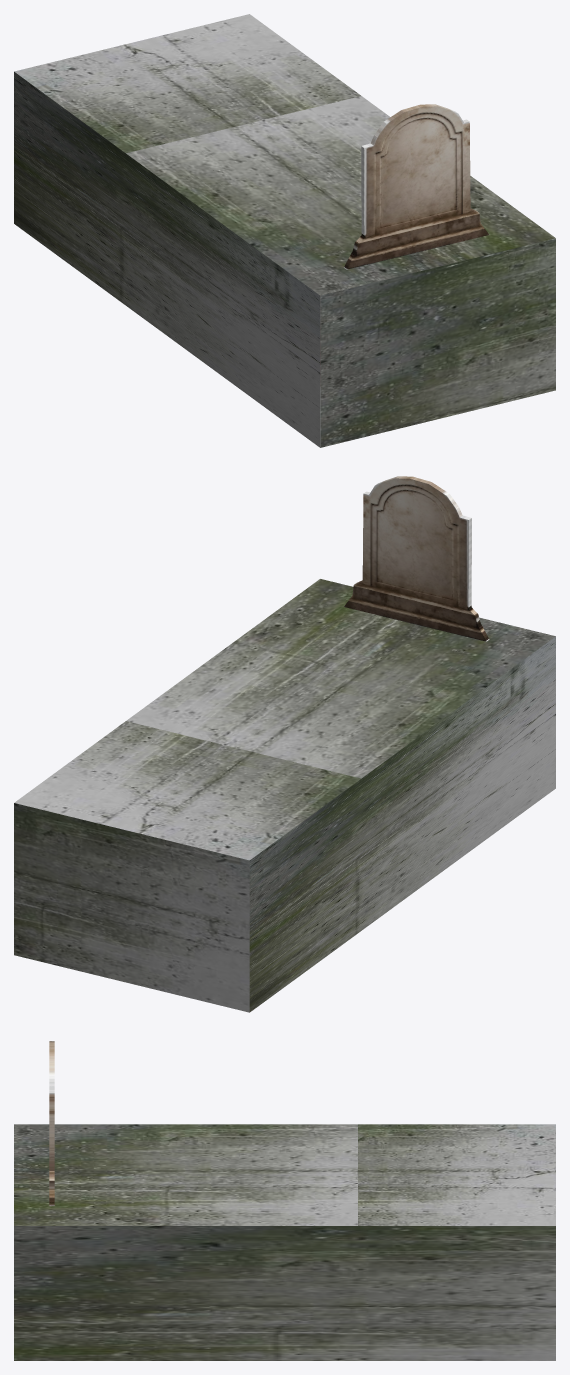
The model's file is Grave 1.fbx.
3 views of the same model, one above another, from view 1: azimuth 30°, elevation 25°; view 2: azimuth 150°, elevation 25°; view 3: azimuth 270°, elevation 25° (orthographic). The views are drawn at different scales.
Visible parts, largest first — view 1: Cube; view 2: Cube; view 3: Cube.
Part boxes in pixels (x1,y1,x2,y2): Cube: (14, 14, 555, 447); Cube: (14, 476, 555, 1012); Cube: (14, 1041, 555, 1360).
Bounding box in the file's own units: 324 × 390 × 729.
Materials: 2 (2 with a texture image).
